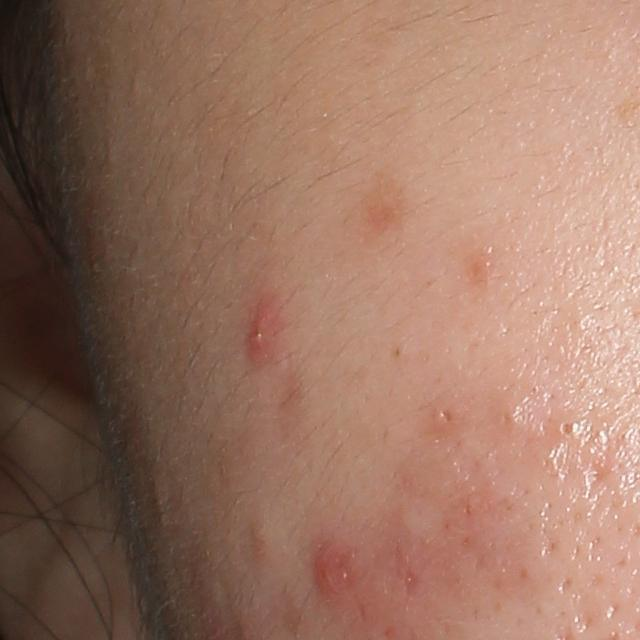comedo: (553, 414, 582, 442)
papule: (308, 545, 347, 600)
